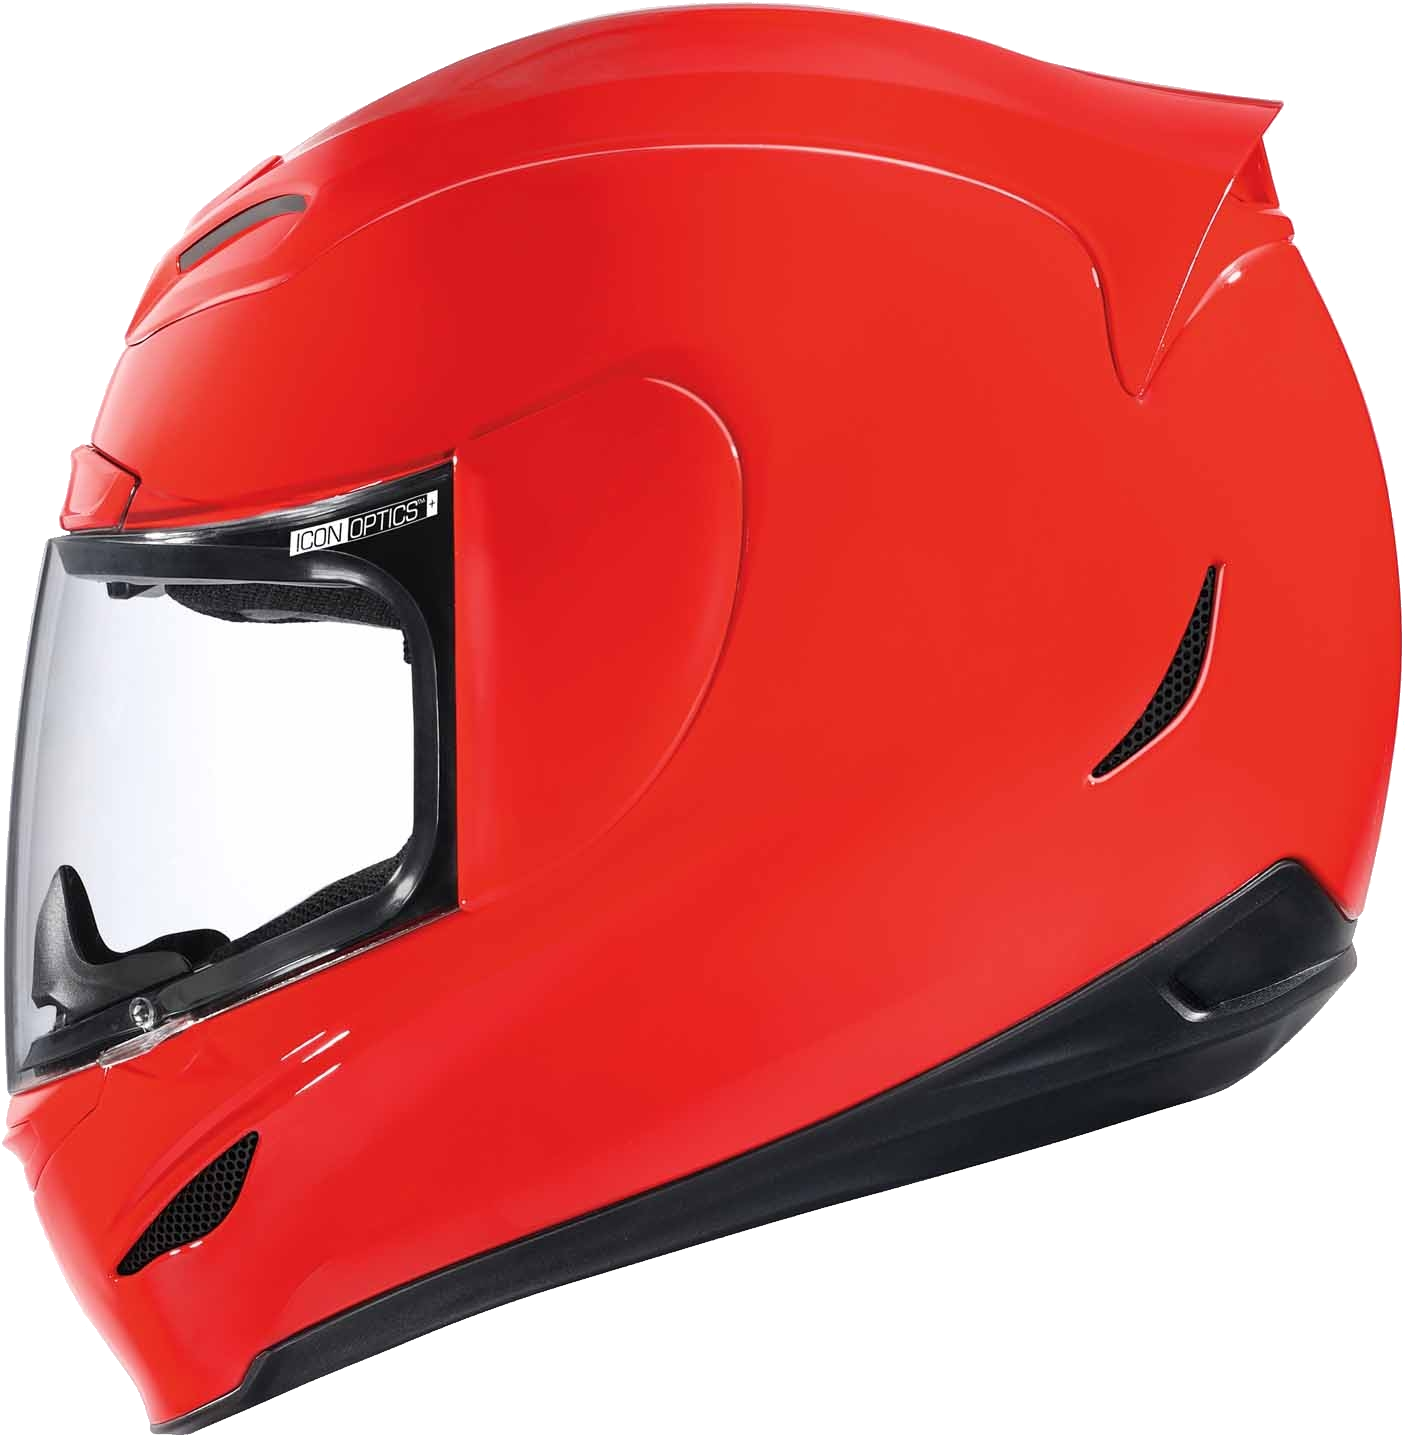with_helmet: (1, 1, 1403, 1440)
